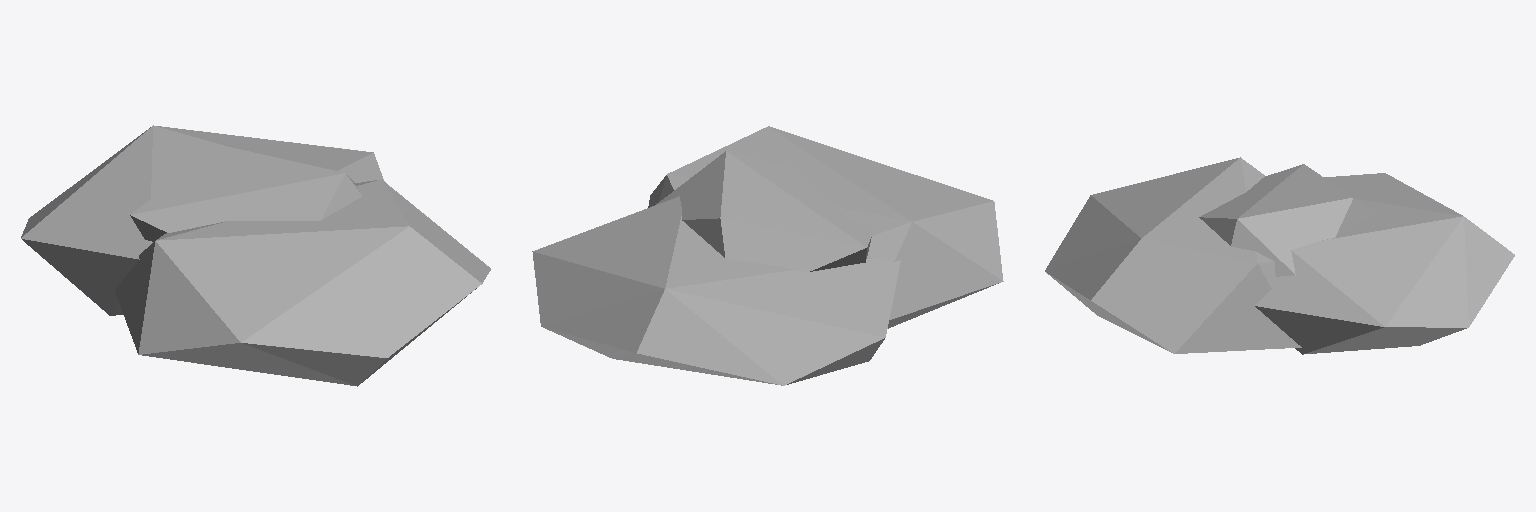
robot.urdf — cloud:
<robot name="cloud">
  <!-- Cloud -->
  <link name="base">
    <inertial>
      <mass value="1.0"/>
      <inertia ixx="1.0" iyy="1.0" izz="1.0"
               ixy="0.0" ixz="0.0" iyz="0.0"/>
      <origin xyz="0 0 0" rpy="0 0 0"/>
    </inertial>
    <visual>
      <origin xyz="0 0 0" rpy="0 0 0"/>
      <geometry>
        <mesh filename="cloud.obj" scale="1 1 1"/>
      </geometry>
      <material name="green">
        <color rgba="0.7 0.7 0.7 0.8"/> <!-- Semi-transparent green -->
      </material>
    </visual>
    <collision>
      <origin xyz="0 0 0" rpy="0 0 0"/>
      <geometry>
        <mesh filename="cloud.obj" scale="1 1 1"/>
      </geometry>
    </collision>
  </link>

</robot>

--- What the picture shows (computed from the rendered views, not written in the file) ---
Views: 3 orthographic renders of the robot side by side, from view 1: azimuth 30°, elevation 25°; view 2: azimuth 150°, elevation 25°; view 3: azimuth 270°, elevation 25°.
Robot: cloud — 1 links, 0 joints (none); root link base; default pose: all joints at 0.
Visible links, largest first — view 1: base; view 2: base; view 3: base.
Boxes of the visible links, x1=… form: base: x1=21, y1=125, x2=490, y2=386; base: x1=532, y1=126, x2=1003, y2=385; base: x1=1045, y1=157, x2=1514, y2=354.
Size in the robot's own frame: 8.93 by 11.51 by 3.49 metres.
1 mesh visuals loaded from 1 distinct referenced files (1 OBJ).